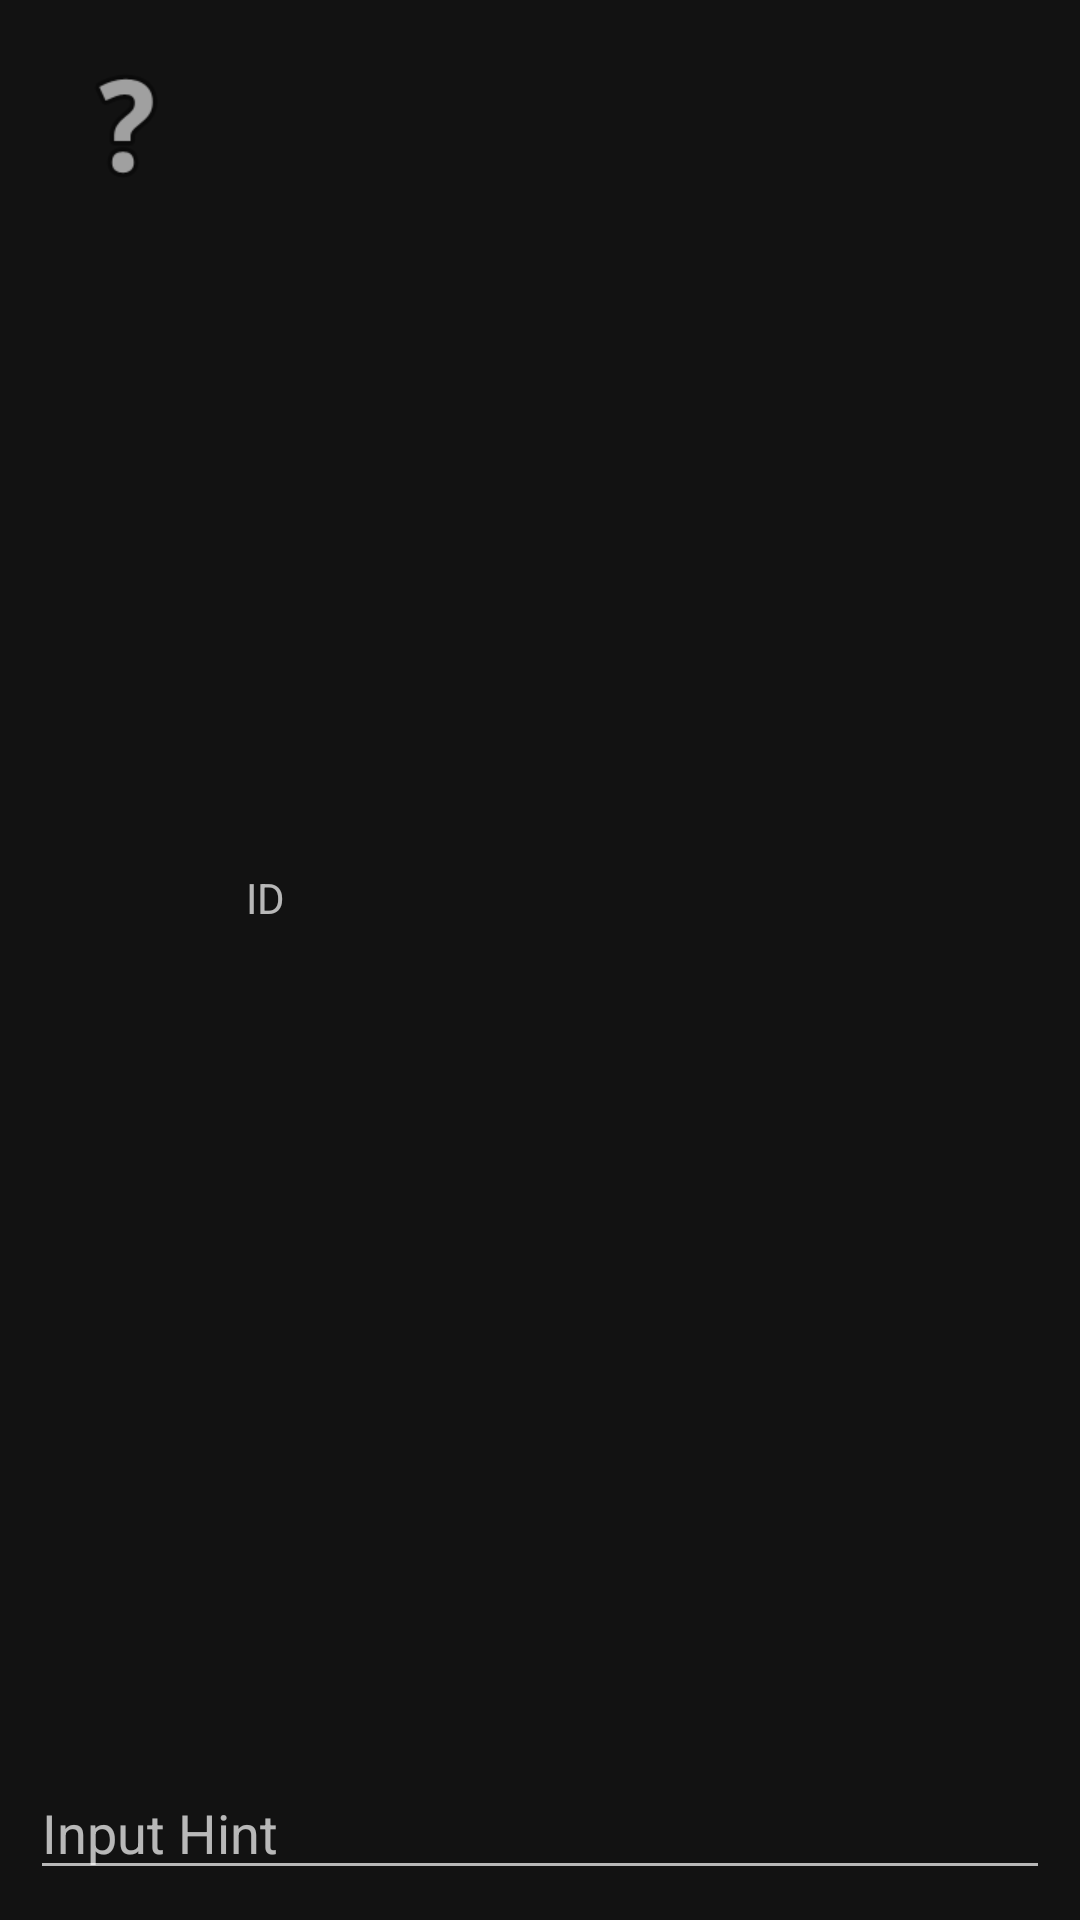

Icons on this 1080*1920 Android screen, each with the point to tap as [x,y]:
Help: [126,126]
